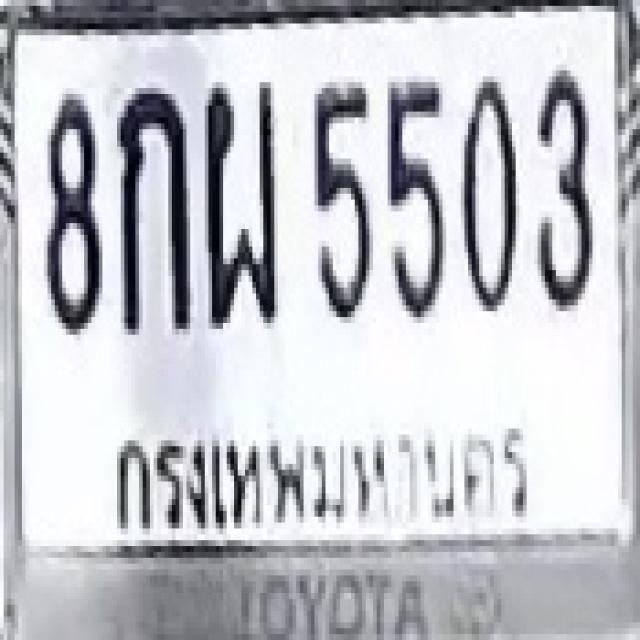-: (203, 76, 280, 323), (117, 82, 187, 329)
0: (459, 71, 517, 311)
3: (532, 65, 591, 305)
5: (384, 76, 443, 317), (311, 76, 369, 317)
8: (44, 88, 99, 329)
BKK: (100, 398, 548, 546)
